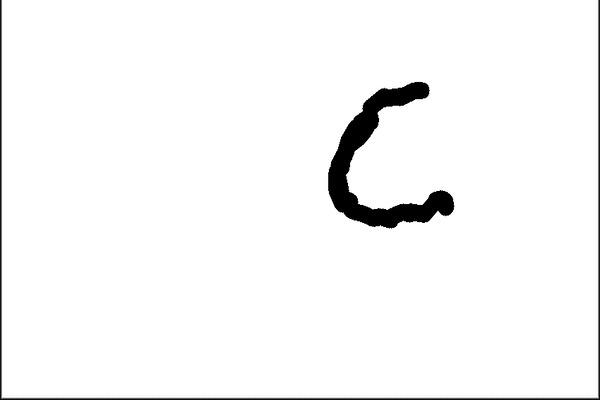C: (321, 75, 459, 232)
